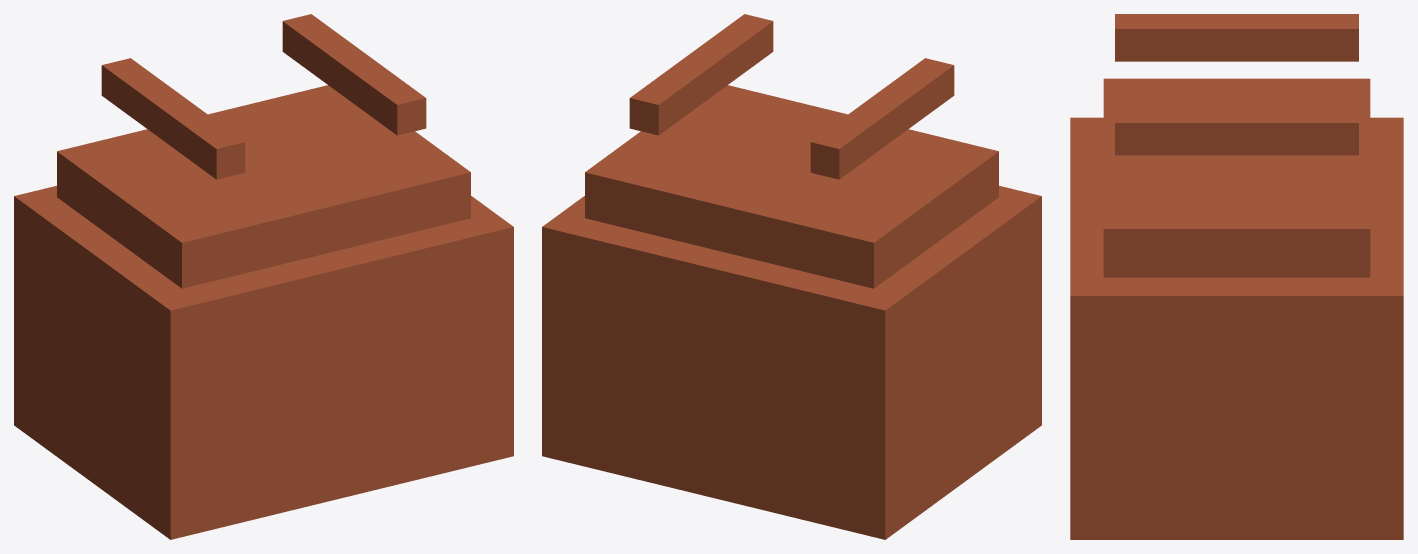
Rendered from roaster.glb.
The picture shows the model from 3 angles, left to right: view 1: azimuth 30°, elevation 25°; view 2: azimuth 150°, elevation 25°; view 3: azimuth 270°, elevation 25°; orthographic projection. The views are drawn at different scales.
Parts seen in each view (by area): view 1: module.roaster; view 2: module.roaster; view 3: module.roaster.
Part boxes in pixels (<box>): module.roaster: <box>14,14,513,539</box>; module.roaster: <box>542,14,1041,539</box>; module.roaster: <box>1070,14,1403,539</box>.
Size of the model in its own units: 1 by 1 by 0.7895.
